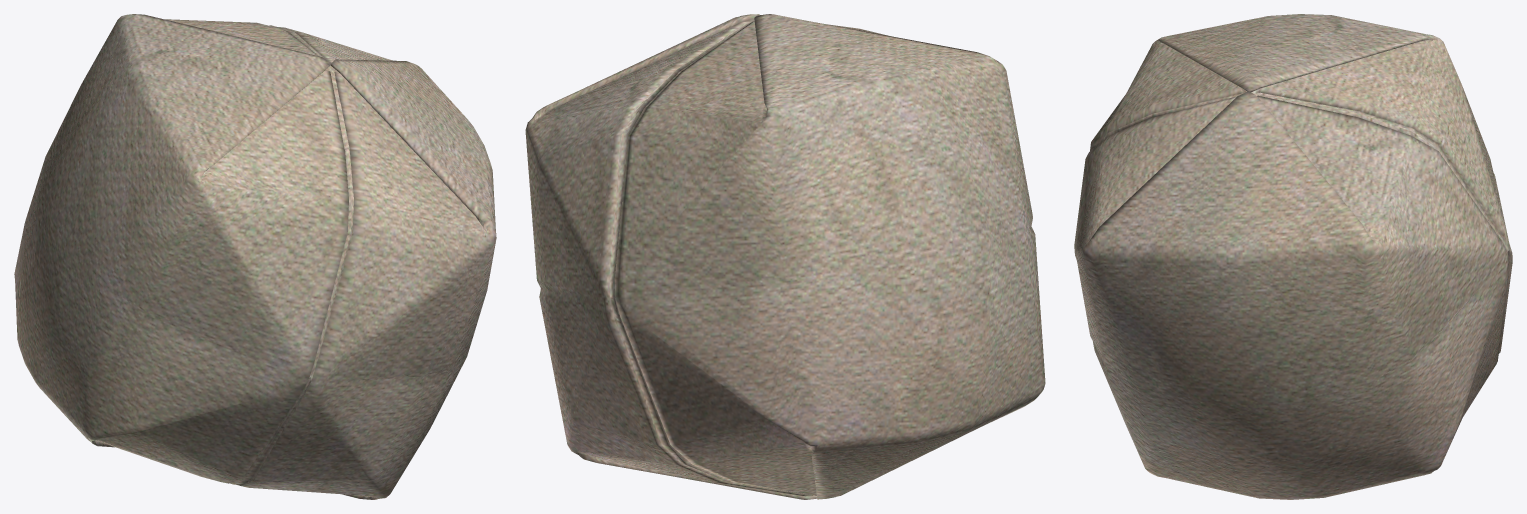
File: rock.fbx
3 renders of one model, left to right at view 1: azimuth 30°, elevation 25°; view 2: azimuth 150°, elevation 25°; view 3: azimuth 270°, elevation 25°, orthographic. The views are drawn at different scales.
Parts seen in each view (by area): view 1: rock; view 2: rock; view 3: rock.
Boxes of the visible parts, bbox=[...] form: rock: bbox=[14, 14, 496, 499]; rock: bbox=[525, 14, 1045, 499]; rock: bbox=[1074, 14, 1512, 499].
Bounding box in the file's own units: 2.87 × 2.75 × 2.77.
